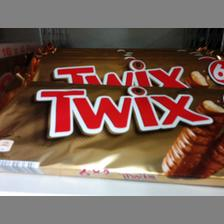Schokolade: (0, 79, 224, 187)
